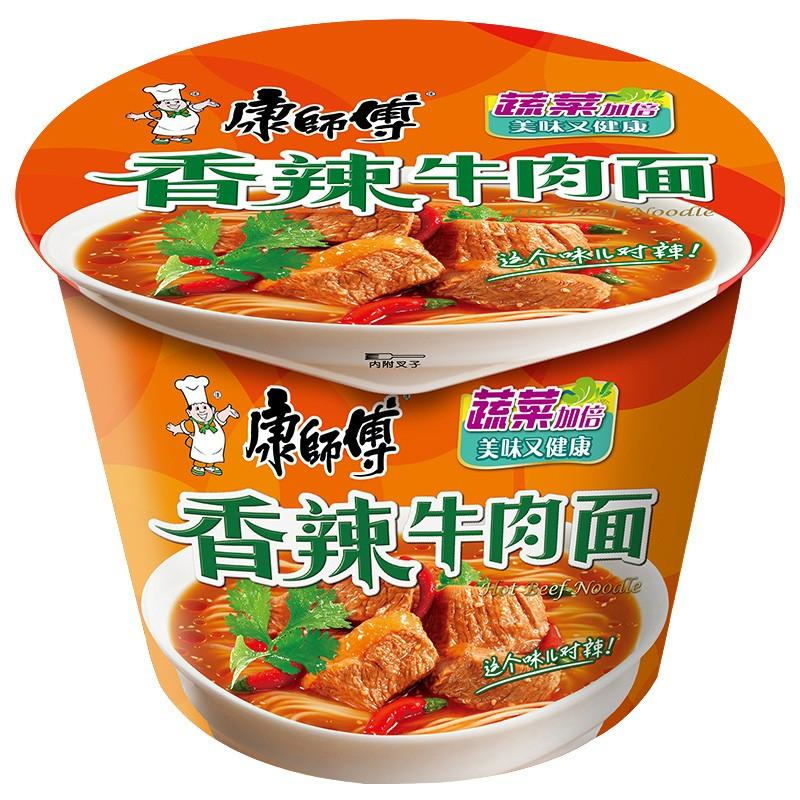instant_noodle: (4, 19, 777, 794)
